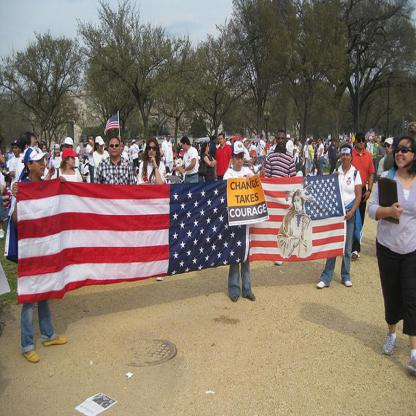face: (396, 145, 414, 168), (32, 157, 46, 175), (234, 155, 245, 171), (342, 152, 352, 167), (110, 143, 121, 156), (295, 196, 304, 211), (29, 140, 38, 154), (148, 144, 157, 158), (278, 135, 287, 149), (69, 156, 76, 168), (386, 144, 393, 156), (358, 140, 366, 148), (14, 145, 20, 155), (66, 145, 72, 154), (120, 145, 124, 154), (183, 142, 187, 151), (220, 138, 225, 145), (57, 148, 61, 156), (99, 143, 103, 151), (90, 149, 95, 155), (7, 180, 12, 186), (47, 158, 51, 165), (91, 138, 95, 145), (208, 146, 211, 153), (43, 147, 46, 153), (374, 138, 377, 144), (62, 147, 65, 152), (168, 136, 171, 141), (246, 141, 249, 146), (378, 139, 381, 144), (1, 169, 4, 173), (263, 136, 265, 141), (261, 161, 264, 164), (275, 140, 277, 144), (256, 162, 258, 166), (305, 170, 307, 174), (129, 144, 131, 148), (174, 161, 176, 164), (215, 141, 217, 144), (288, 138, 290, 141), (298, 142, 300, 145), (314, 143, 316, 146), (5, 168, 7, 170), (335, 142, 337, 144), (263, 162, 264, 165), (320, 141, 321, 144), (313, 141, 314, 144), (106, 143, 107, 145), (177, 158, 178, 160), (232, 141, 233, 143), (315, 165, 316, 167), (319, 142, 320, 144)
